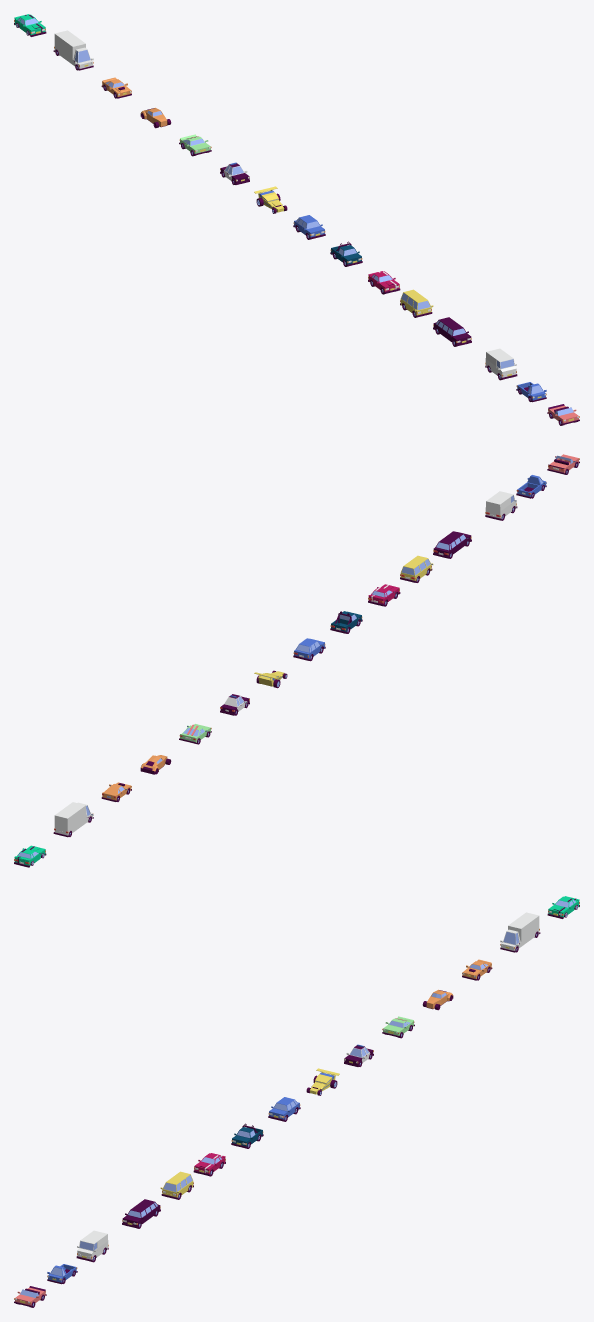
The model's file is cars_big_set.glb.
The picture shows the model from 3 angles, top to bottom: view 1: azimuth 30°, elevation 25°; view 2: azimuth 150°, elevation 25°; view 3: azimuth 330°, elevation 25°; orthographic projection.
Visible parts, largest first — view 1: car_removals, car_breadvan, car_limo, car_minivan; view 2: car_removals, car_breadvan, car_limo, car_minivan; view 3: car_removals, car_breadvan, car_limo, car_minivan.
Part boxes in pixels (<box>): car_removals: <box>53,30,93,70</box>; car_breadvan: <box>485,348,517,379</box>; car_limo: <box>433,317,471,346</box>; car_minivan: <box>400,289,433,317</box>; car_removals: <box>53,802,93,837</box>; car_breadvan: <box>485,491,517,520</box>; car_limo: <box>433,531,471,558</box>; car_minivan: <box>400,555,433,582</box>; car_removals: <box>500,912,540,952</box>; car_breadvan: <box>76,1230,108,1261</box>; car_limo: <box>122,1199,160,1228</box>; car_minivan: <box>160,1171,193,1199</box>.
Size of the model in its own units: 1.63 by 1.43 by 70.21.
2 materials, 1 textured.
